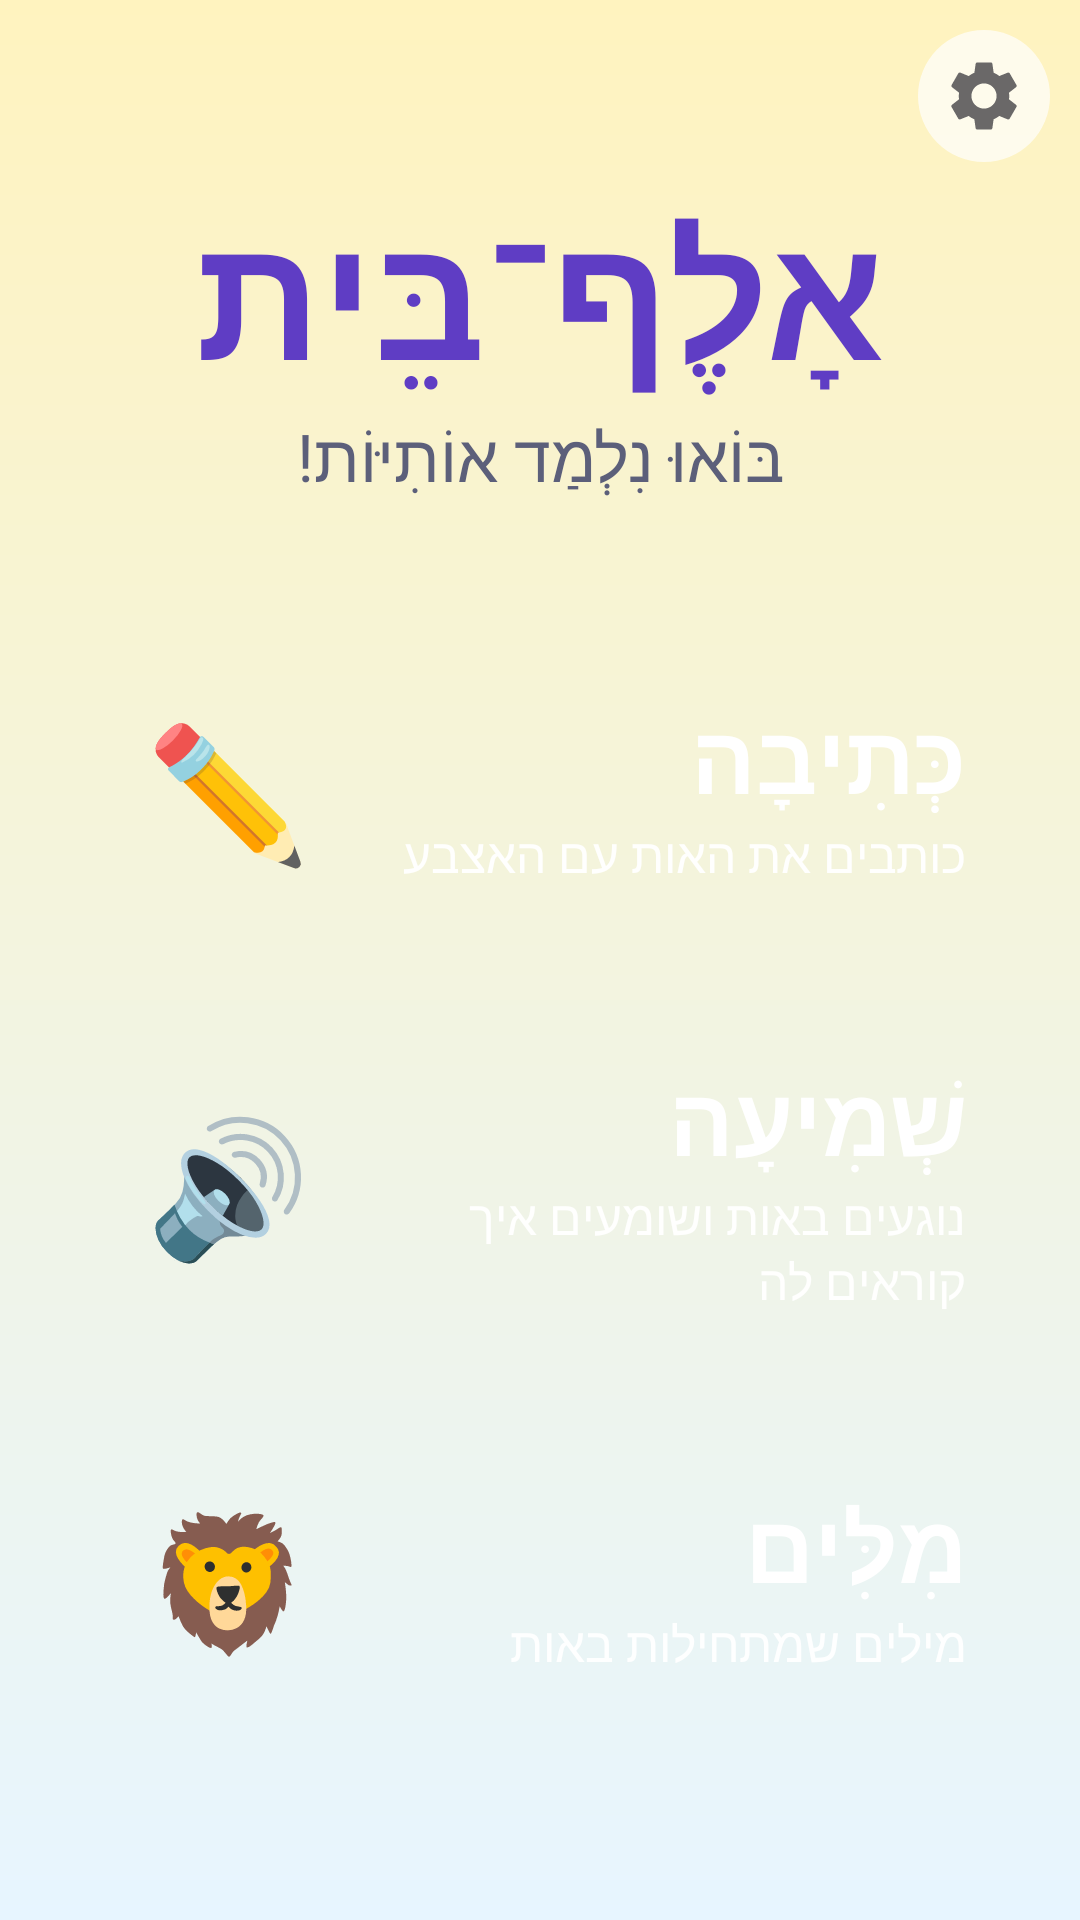

Screen size 1080x1920. Icon name, then its box in pixels as (x1, y1, x2, y2):
הגדרות: (918, 30, 1050, 162)
